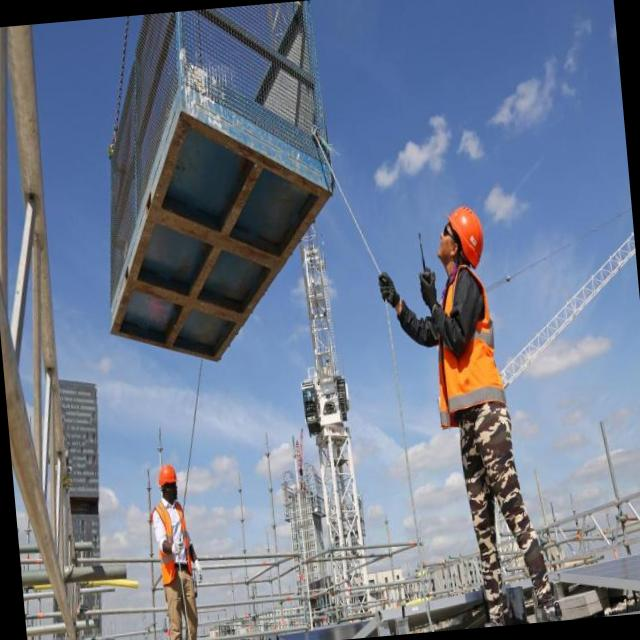Gloves: (368, 268, 396, 314), (411, 268, 437, 313)
Helmet: (146, 488, 203, 606), (152, 459, 184, 484)
